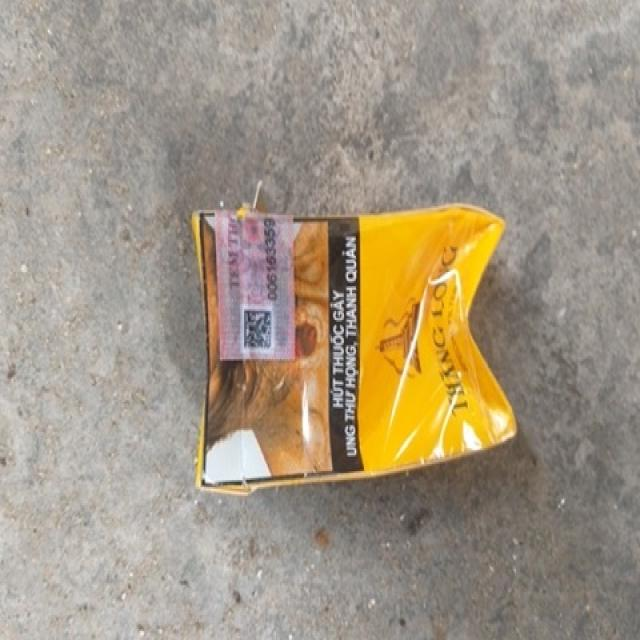PaperCardboard: (190, 198, 520, 490)
